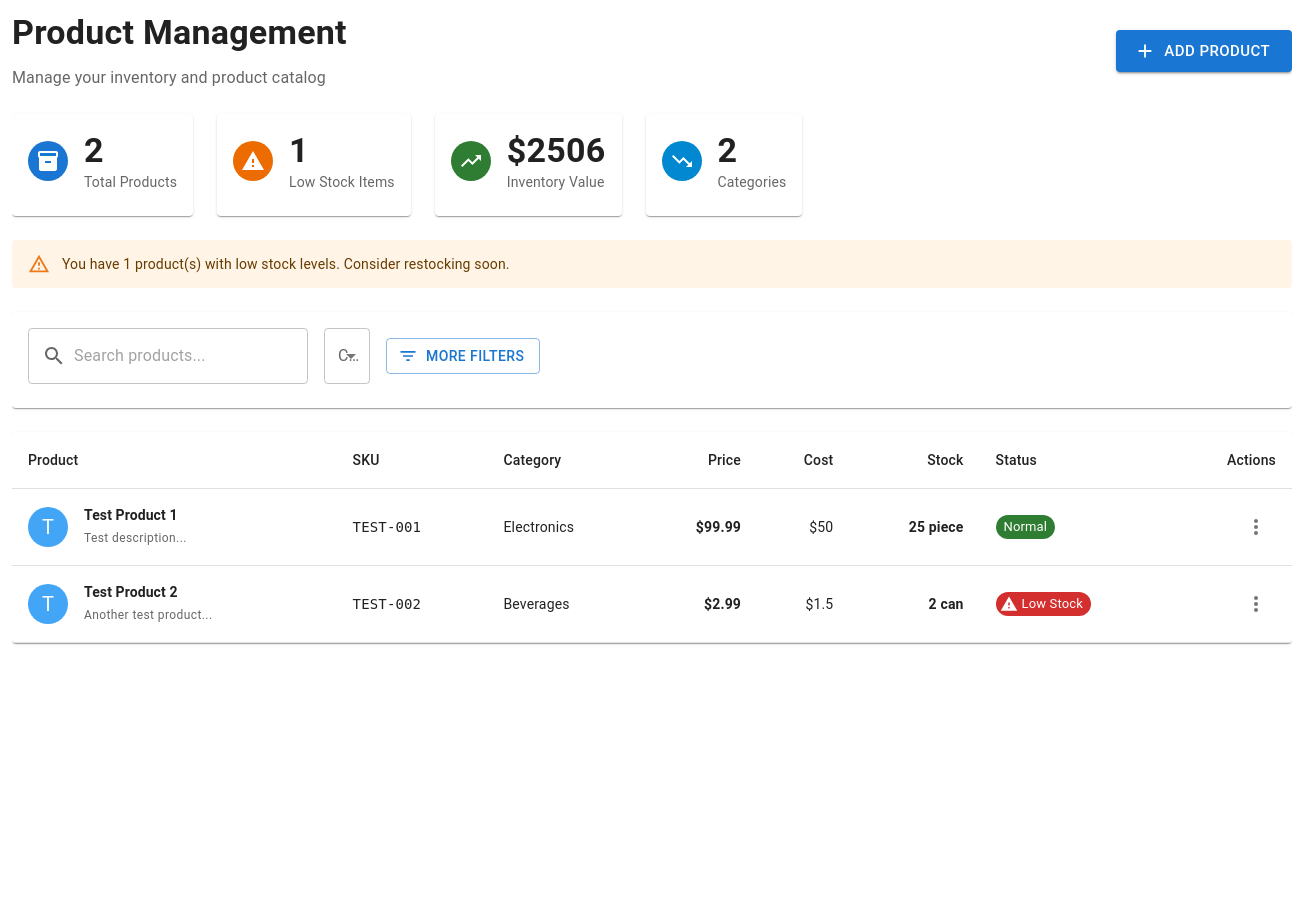
ProductManagement Component › search functionality works
Check: the heading "Test Product 1" is shown, box [84,505,187,527]
Type "TEST-001" into the field with placeholder "Search products..." at (191, 356), box [74,328,308,384]
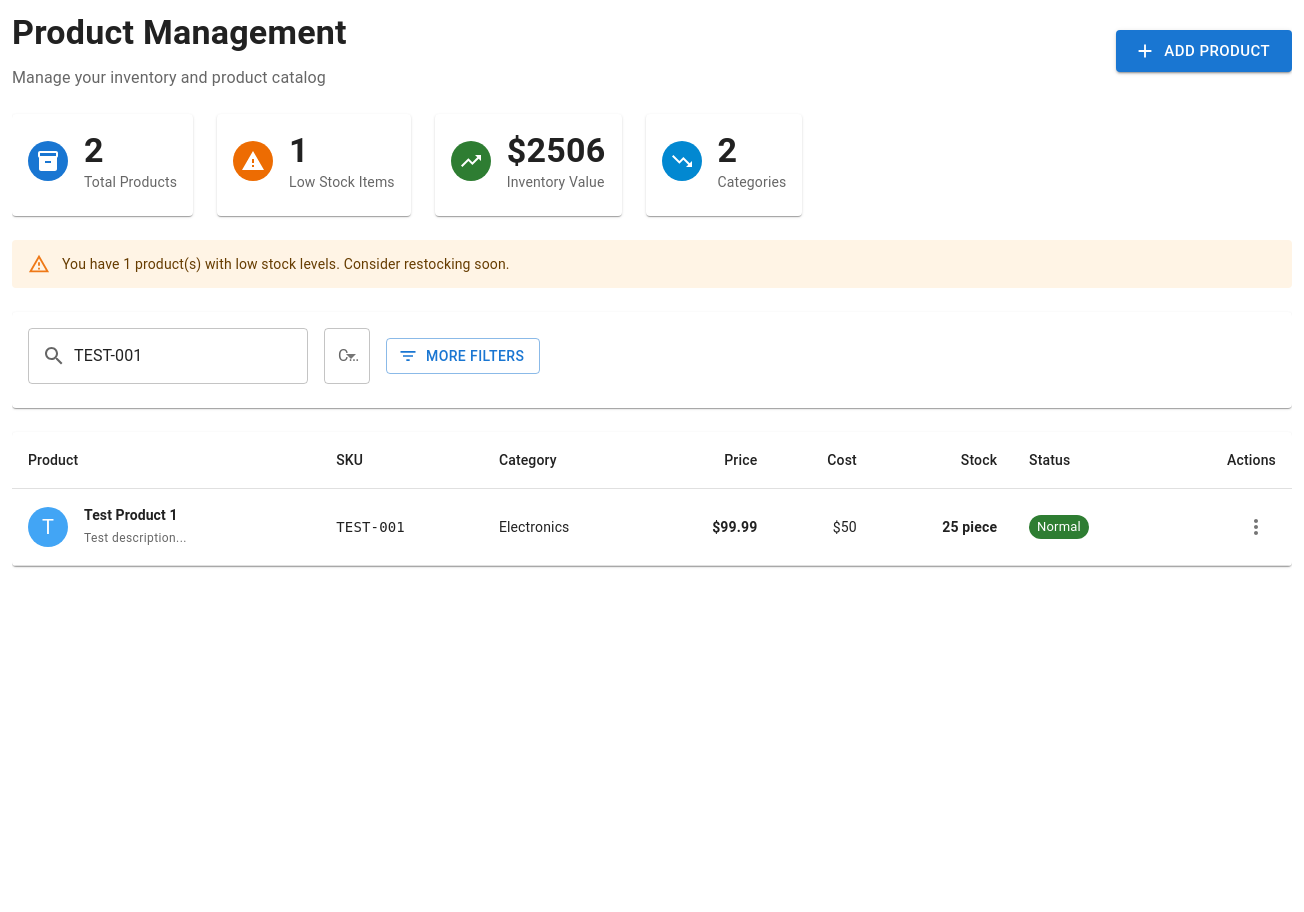
Check: the heading "Test Product 1" is shown, box [84,505,187,527]
Check: the heading "Test Product 2" is gone
